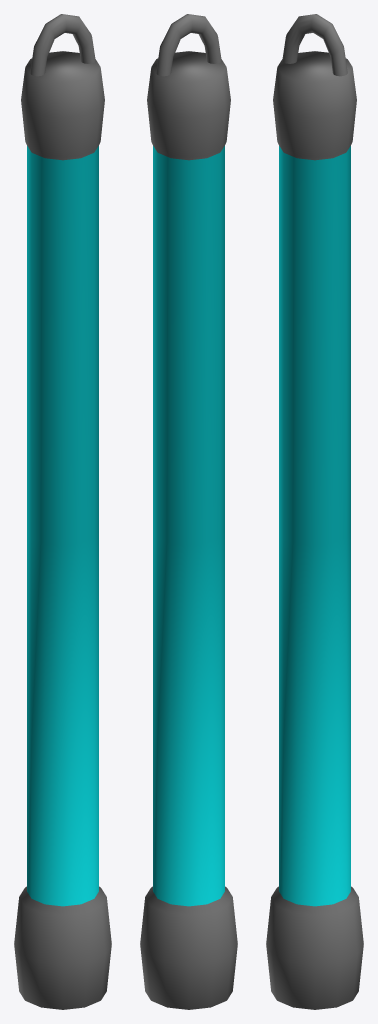
File: GlowStick.fbx
3 views of the same model, side by side, from view 1: azimuth 30°, elevation 25°; view 2: azimuth 210°, elevation 25°; view 3: azimuth 330°, elevation 25° (orthographic).
Visible parts, largest first — view 1: Torus; view 2: Torus; view 3: Torus.
Boxes of the visible parts, x1=… form: Torus: x1=14, y1=14, x2=111, y2=1009; Torus: x1=140, y1=14, x2=237, y2=1009; Torus: x1=266, y1=14, x2=363, y2=1009.
Size of the model in its own units: 0.0888 by 0.9799 by 0.0888.
